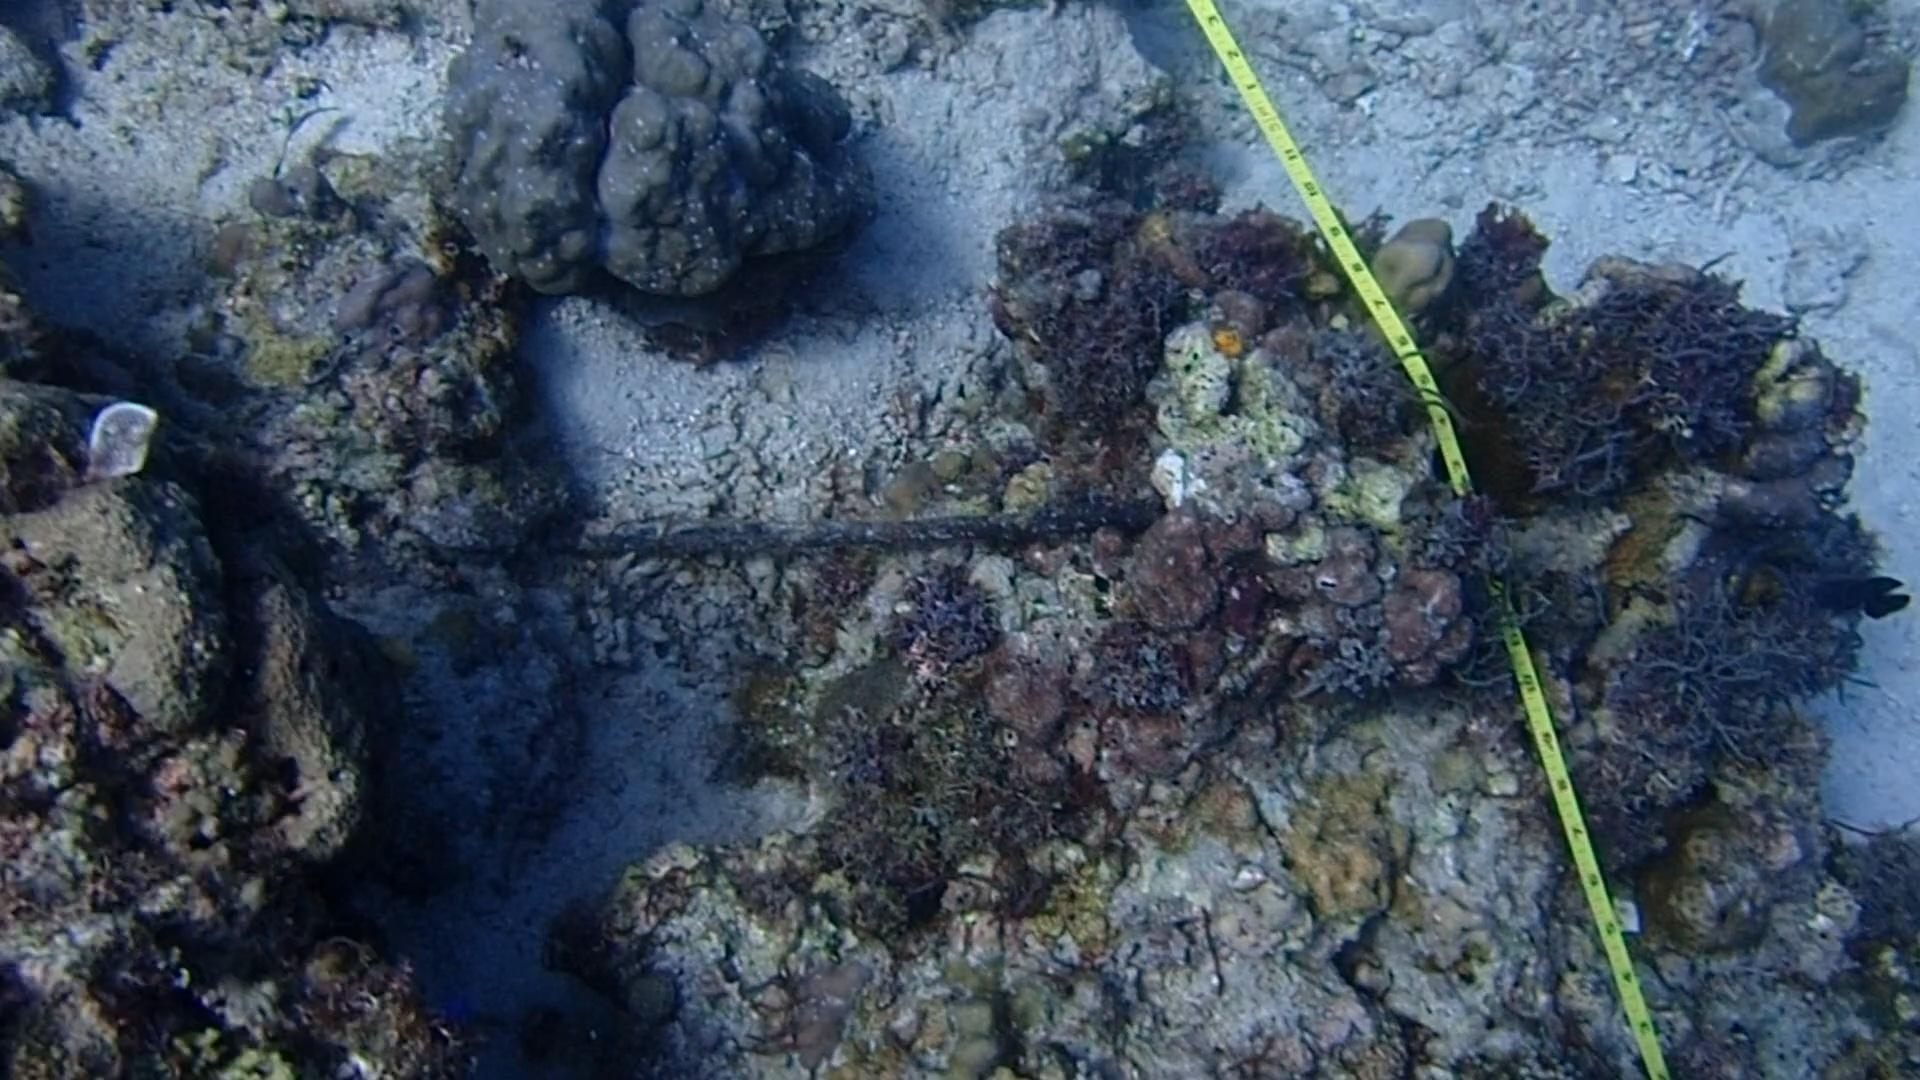Dark Fish: (1805, 555, 1915, 642)
